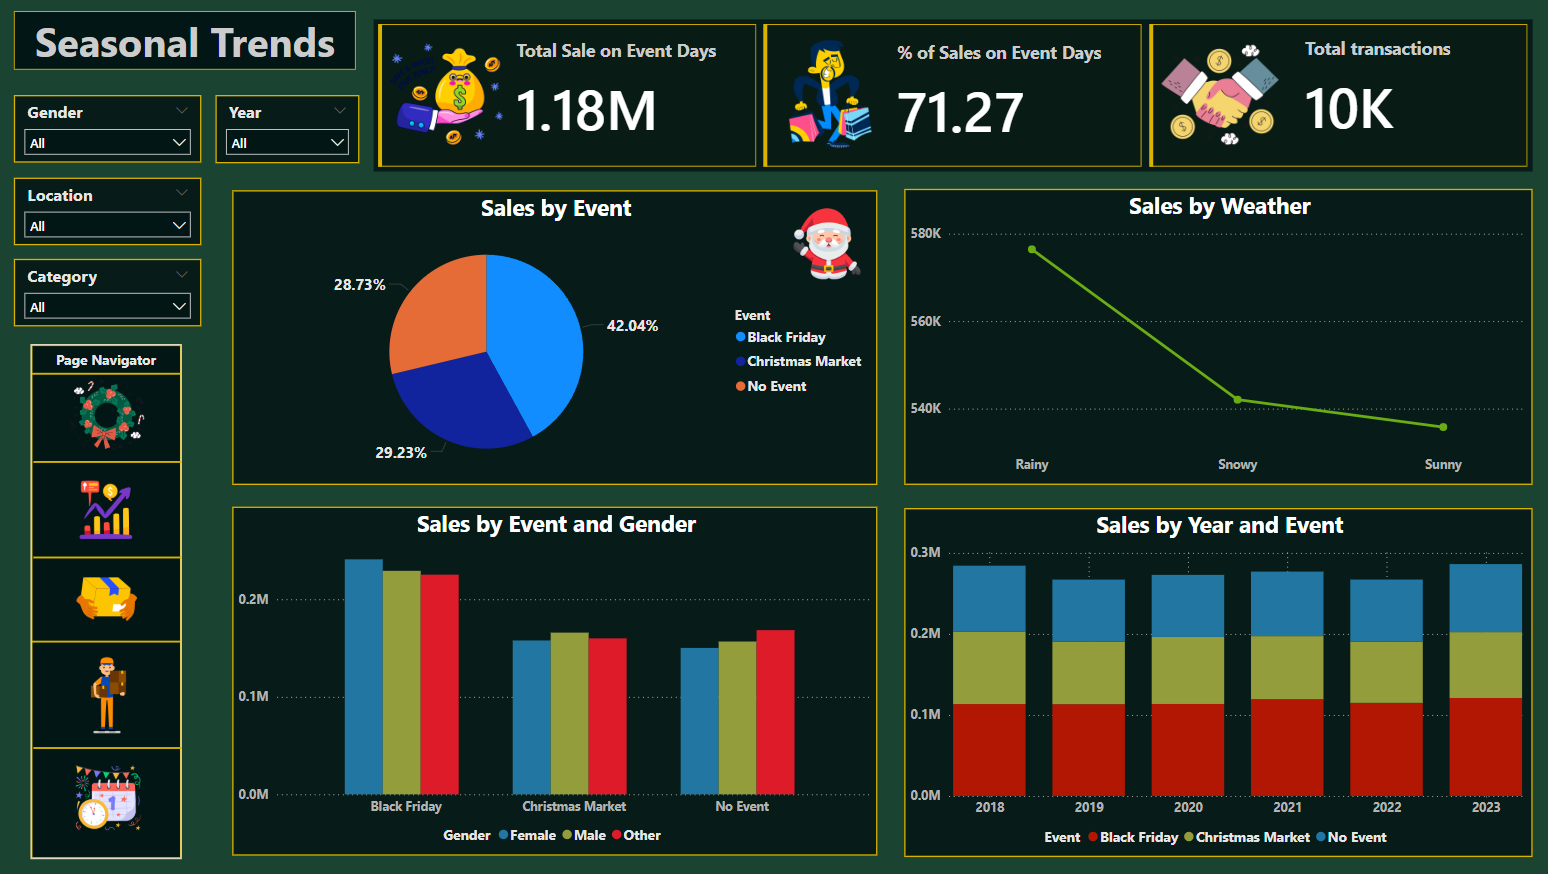

This screenshot's page, from the dashboard's own definition file:
{"tool":"powerbi","page":{"name":"Seasonal Trends","canvas":[1664,936],"ordinal":3},"visuals":[{"type":"pieChart","title":"Sales by Event","fields":{"Category":["Christmas sales data.Event"],"Y":["Sum(Christmas sales data.TotalPrice)"]},"box":[250,206,688,314],"z":0},{"type":"shape","box":[17.7,15.3,364.7,62.7],"z":1000,"group":"g1"},{"type":"lineChart","title":"Sales by Weather","fields":{"Category":["Christmas sales data.Weather"],"Y":["Sum(Christmas sales data.TotalPrice)"]},"box":[967.8,204.4,670,315.6],"z":1000},{"type":"columnChart","title":"Sales by Year and Event","fields":{"Category":["Christmas sales data.Date.Variation.Date Hierarchy.Year"],"Y":["Sum(Christmas sales data.TotalPrice)"],"Series":["Christmas sales data.Event"]},"box":[967.8,544.4,670,372.2],"z":2000},{"type":"clusteredColumnChart","title":"Sales by Event and Gender","fields":{"Category":["Christmas sales data.Event"],"Series":["Christmas sales data.Gender"],"Y":["Sum(Christmas sales data.TotalPrice)"]},"box":[250,544,688,372],"z":3000},{"type":"slicer","fields":{"Values":["Christmas sales data.Gender"]},"box":[17.7,104.6,200,72.3],"z":4000},{"type":"textbox","box":[17.7,13.3,364.6,66.9],"z":5000,"group":"g1"},{"type":"slicer","fields":{"Values":["Christmas sales data.Location"]},"box":[17.5,192.5,200,72.5],"z":5000},{"type":"slicer","fields":{"Values":["Christmas sales data.Category"]},"box":[17.5,279.2,200,72.5],"z":6000},{"type":"slicer","fields":{"Values":["Christmas sales data.Date.Variation.Date Hierarchy.Year"]},"box":[232.3,104.6,153.8,73.1],"z":7000},{"type":"cardVisual","fields":{"Data":["MeasuresTable.Total Sale on Event Days","MeasuresTable.% of Sales on Event Days","MeasuresTable.Total transactions"]},"box":[402,24,1236,162],"z":8000},{"type":"group","id":"g1","title":"Group 3","box":[17.7,13.3,364.7,66.9],"z":10000},{"type":"image","box":[831.3,206,107.5,114.9],"z":10502},{"type":"group","id":"g2","title":"Group 2","box":[36.7,442,167,470],"z":10503},{"type":"shape","box":[36.7,442,167,470],"z":12000,"group":"g3"},{"type":"group","id":"g3","title":"Group 1","box":[36.7,442,167,470],"z":13000,"group":"g2"},{"type":"image","box":[73.2,582.2,94.1,86.4],"z":13000,"group":"g3"},{"type":"textbox","box":[38.7,443.3,163.3,31],"z":14000,"group":"g2"},{"type":"image","box":[77.3,486.2,86.1,81],"z":14000,"group":"g3"},{"type":"image","box":[74.7,801.8,94.1,86.1],"z":15000,"group":"g3"},{"type":"image","box":[74.7,683.8,94.7,94.7],"z":16000,"group":"g3"},{"type":"shape","box":[39.6,468.1,163.2,12.7],"z":17000,"group":"g3"},{"type":"shape","box":[39.6,572.1,162.9,13.4],"z":19000,"group":"g3"},{"type":"shape","box":[38.5,665.2,163.5,13.7],"z":20000,"group":"g3"},{"type":"shape","box":[39.6,782.4,163.5,13.7],"z":21000,"group":"g3"}]}

Visuals, with their boxes in screenshot pixels (x1, y1, x2, y2), scaled from the page's 1664x936 canvas onto the 1548x874 screenshot:
"Sales by Event" pieChart: Rect(233, 192, 873, 486)
shape: Rect(16, 14, 356, 73)
"Sales by Weather" lineChart: Rect(900, 191, 1524, 486)
"Sales by Year and Event" columnChart: Rect(900, 508, 1524, 856)
"Sales by Event and Gender" clusteredColumnChart: Rect(233, 508, 873, 855)
slicer - Christmas sales data.Gender: Rect(16, 98, 203, 165)
textbox: Rect(16, 12, 356, 75)
slicer - Christmas sales data.Location: Rect(16, 180, 202, 247)
slicer - Christmas sales data.Category: Rect(16, 261, 202, 328)
slicer - Christmas sales data.Date.Variation.Date Hierarchy.Year: Rect(216, 98, 359, 166)
cardVisual - MeasuresTable.Total Sale on Event Days x MeasuresTable.% of Sales on Event Days: Rect(374, 22, 1524, 174)
"Group 3" group: Rect(16, 12, 356, 75)
image: Rect(773, 192, 873, 300)
"Group 2" group: Rect(34, 413, 189, 852)
shape: Rect(34, 413, 189, 852)
"Group 1" group: Rect(34, 413, 189, 852)
image: Rect(68, 544, 156, 624)
textbox: Rect(36, 414, 188, 443)
image: Rect(72, 454, 152, 530)
image: Rect(69, 749, 157, 829)
image: Rect(69, 639, 158, 727)
shape: Rect(37, 437, 189, 449)
shape: Rect(37, 534, 188, 547)
shape: Rect(36, 621, 188, 634)
shape: Rect(37, 731, 189, 743)
